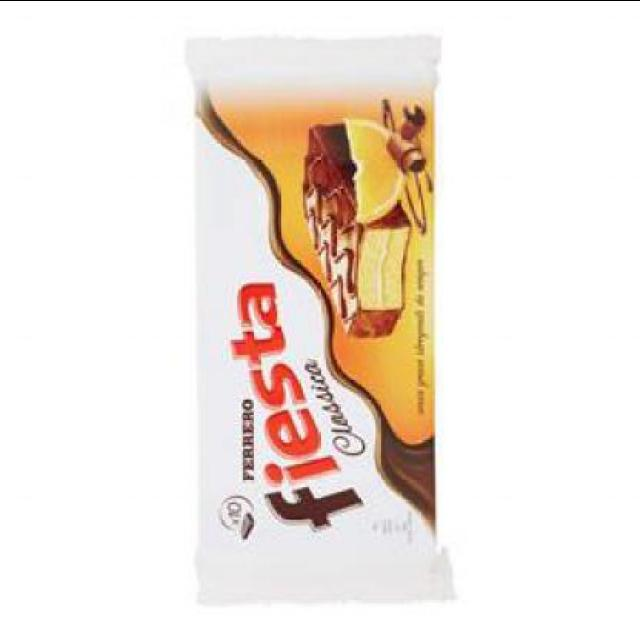Merendine: (188, 34, 450, 608)
